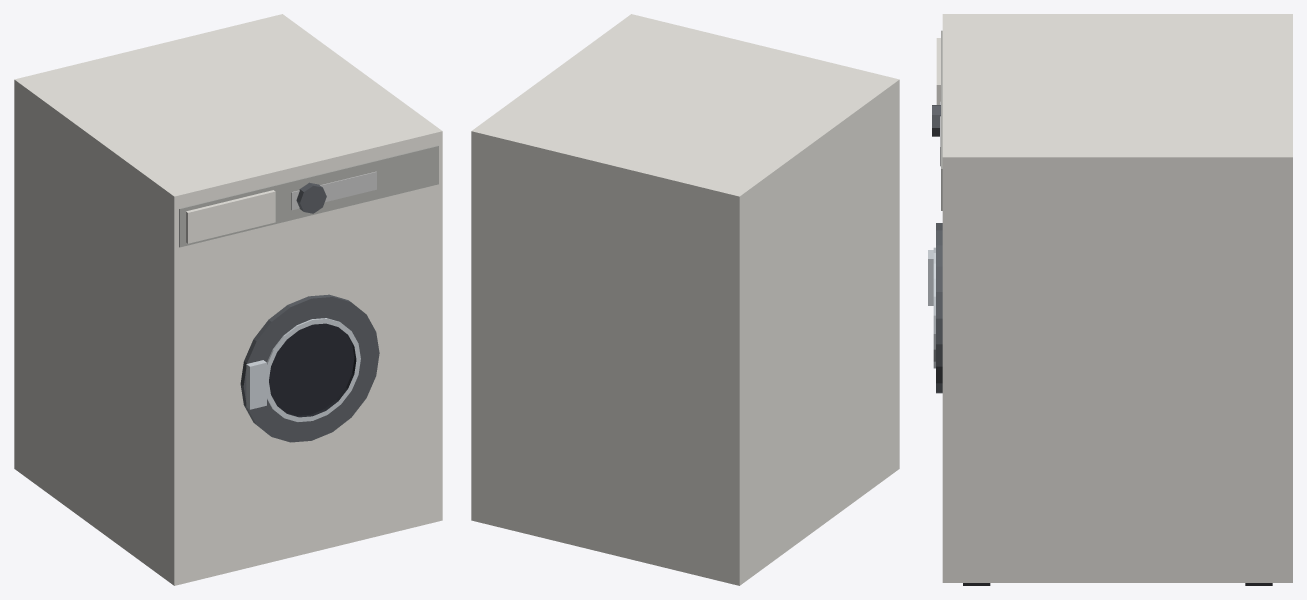
File: FN_Appliance_Washer.obj
3 renders of one model, left to right at view 1: azimuth 30°, elevation 25°; view 2: azimuth 150°, elevation 25°; view 3: azimuth 270°, elevation 25°, orthographic. The views are drawn at different scales.
Visible parts, largest first — view 1: FN_Appliance_Washer; view 2: FN_Appliance_Washer; view 3: FN_Appliance_Washer.
Part boxes in pixels (x1,y1,x2,y2): FN_Appliance_Washer: [14, 14, 442, 585]; FN_Appliance_Washer: [471, 14, 899, 585]; FN_Appliance_Washer: [928, 14, 1292, 585].
Size of the model in its own units: 0.6 by 0.85 by 0.646.
Materials: 2 (1 with a texture image).
